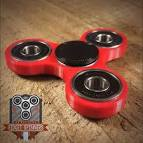fidget_spinner: (1, 7, 135, 135)
